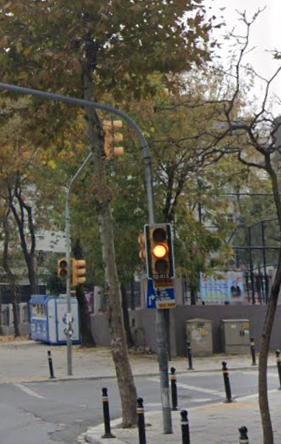yellowlight: (147, 224, 173, 276)
